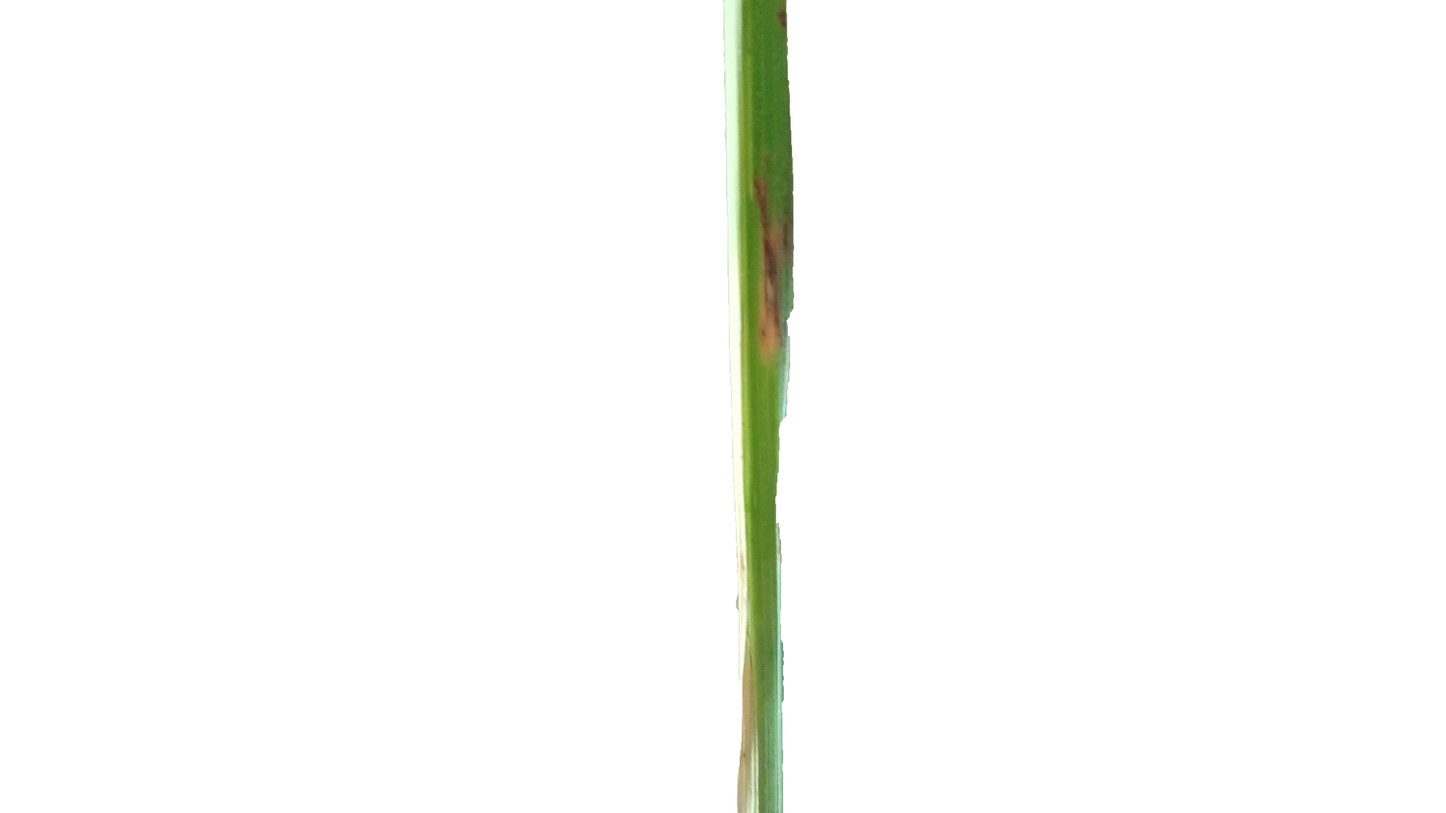Rice blast: (742, 165, 787, 362)
